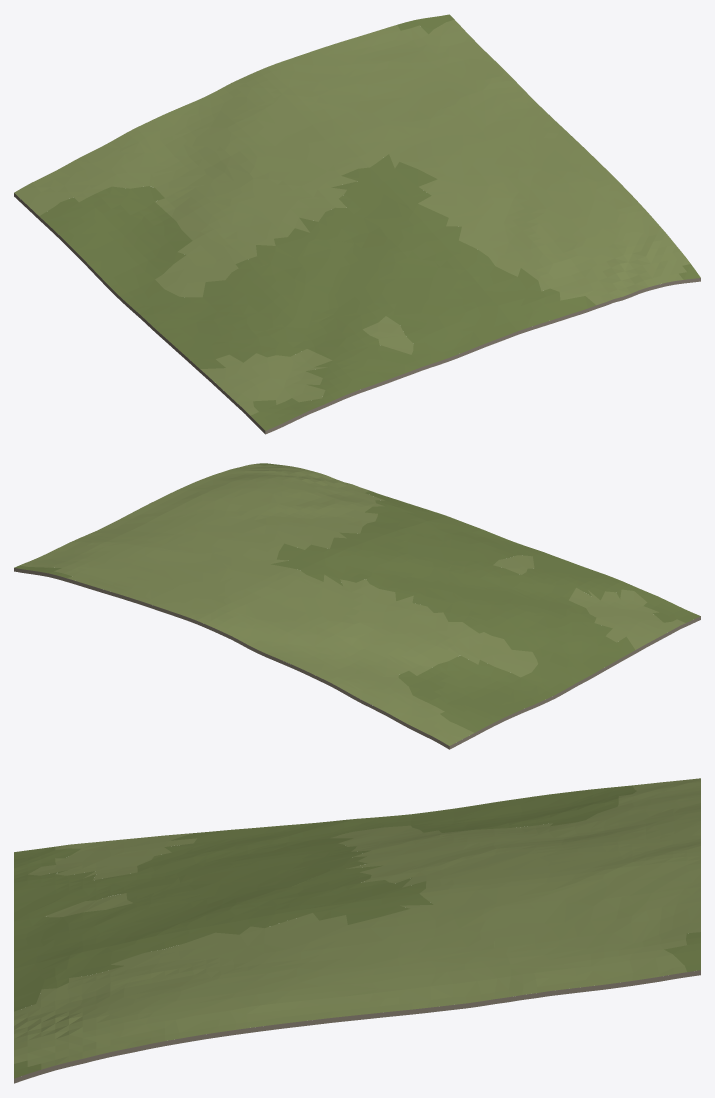
Rendered from parca_+3_-8-uzak.glb.
The picture shows the model from 3 angles, top to bottom: view 1: azimuth 30°, elevation 25°; view 2: azimuth 150°, elevation 25°; view 3: azimuth 270°, elevation 25°; orthographic projection. The views are drawn at different scales.
Parts seen in each view (by area): view 1: parca_+3_-8_arazi_uzak; view 2: parca_+3_-8_arazi_uzak; view 3: parca_+3_-8_arazi_uzak.
Boxes of the visible parts, bbox=[...] form: parca_+3_-8_arazi_uzak: bbox=[14, 14, 700, 434]; parca_+3_-8_arazi_uzak: bbox=[14, 463, 700, 749]; parca_+3_-8_arazi_uzak: bbox=[14, 778, 700, 1083].
Size of the model in its own units: 1000 by 291 by 1000.
